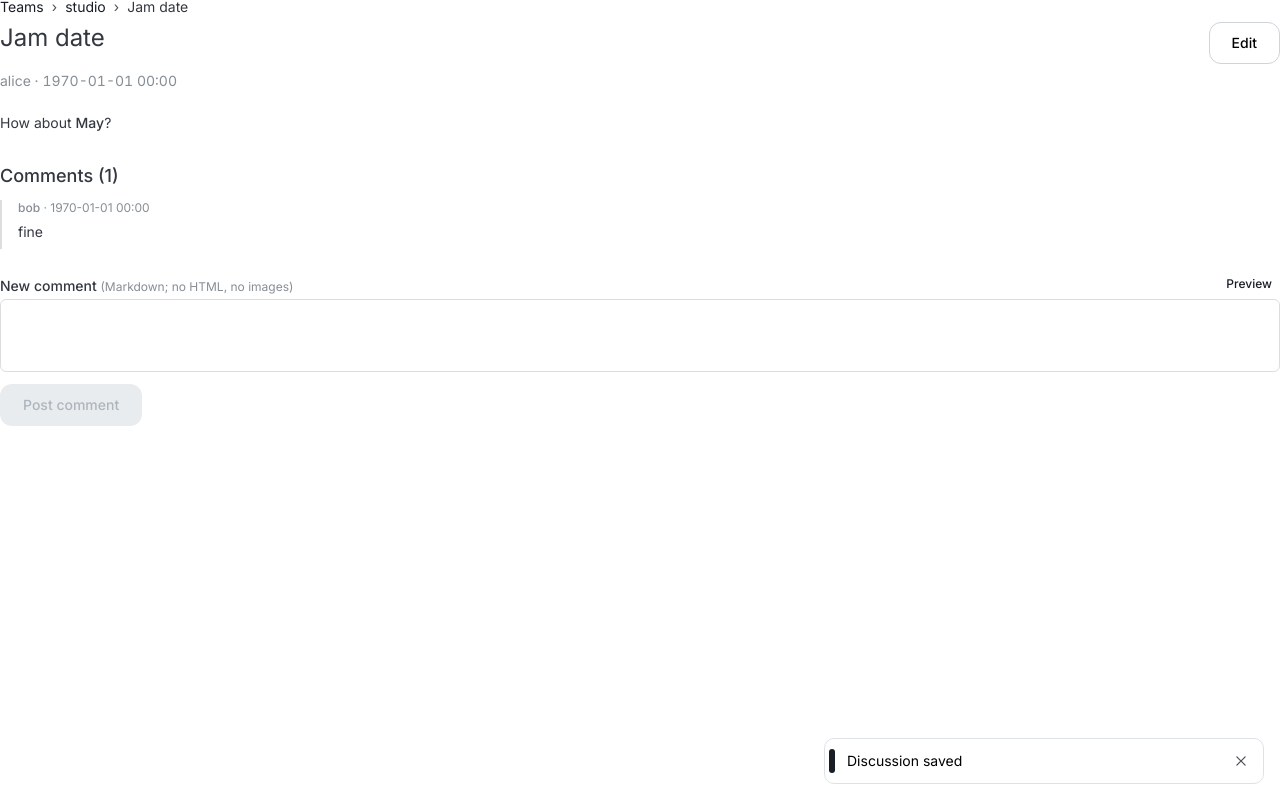
it: DiscussionPage › deletes after confirmation and returns to the team's discussions
Expected: the heading "Jam date" is shown, [0, 22, 105, 54]
Note: The author's delete is the danger zone of the edit drawer.
What coordinates should you click on to do the following:
click the button "Edit"
I would click on:
 (1244, 43)
Its box is [1209, 22, 1279, 64].
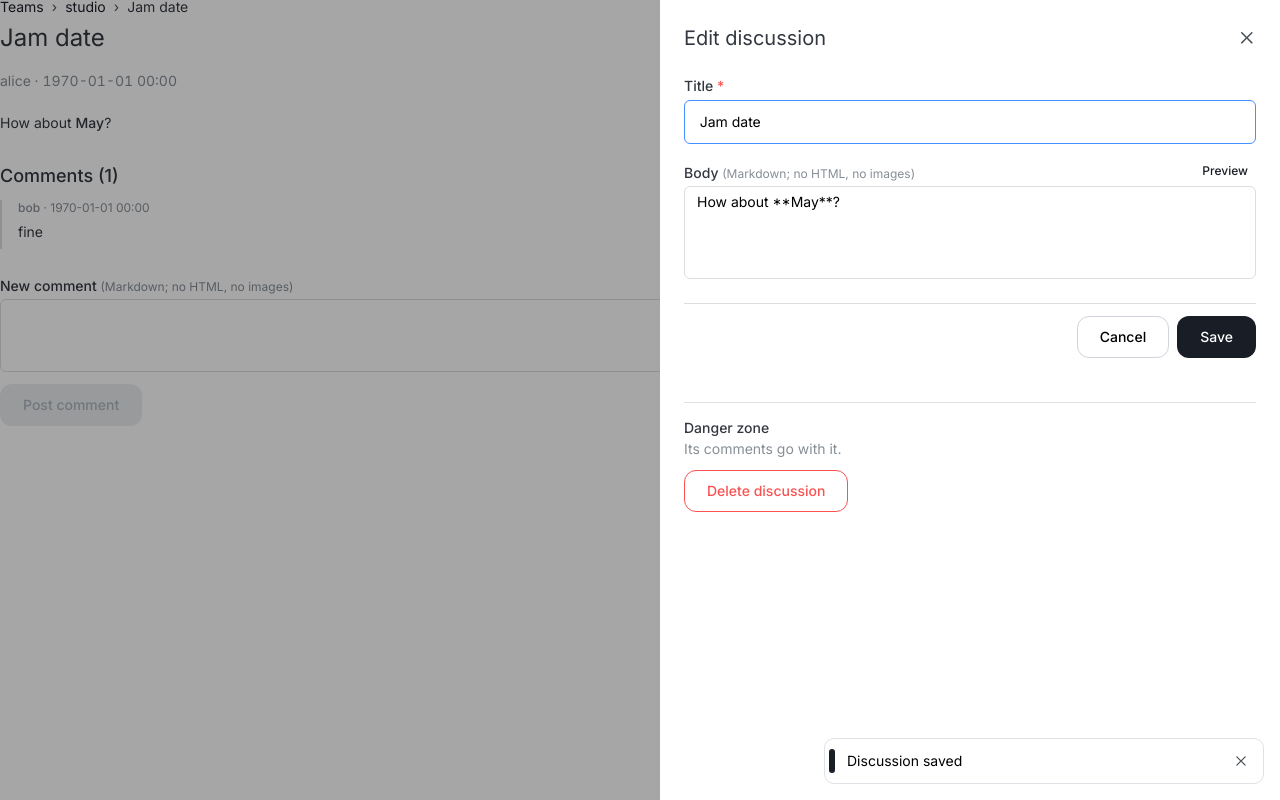
What coordinates should you click on to do the following:
click the button "Delete discussion"
I would click on:
 (766, 491)
Its box is [684, 470, 848, 512].
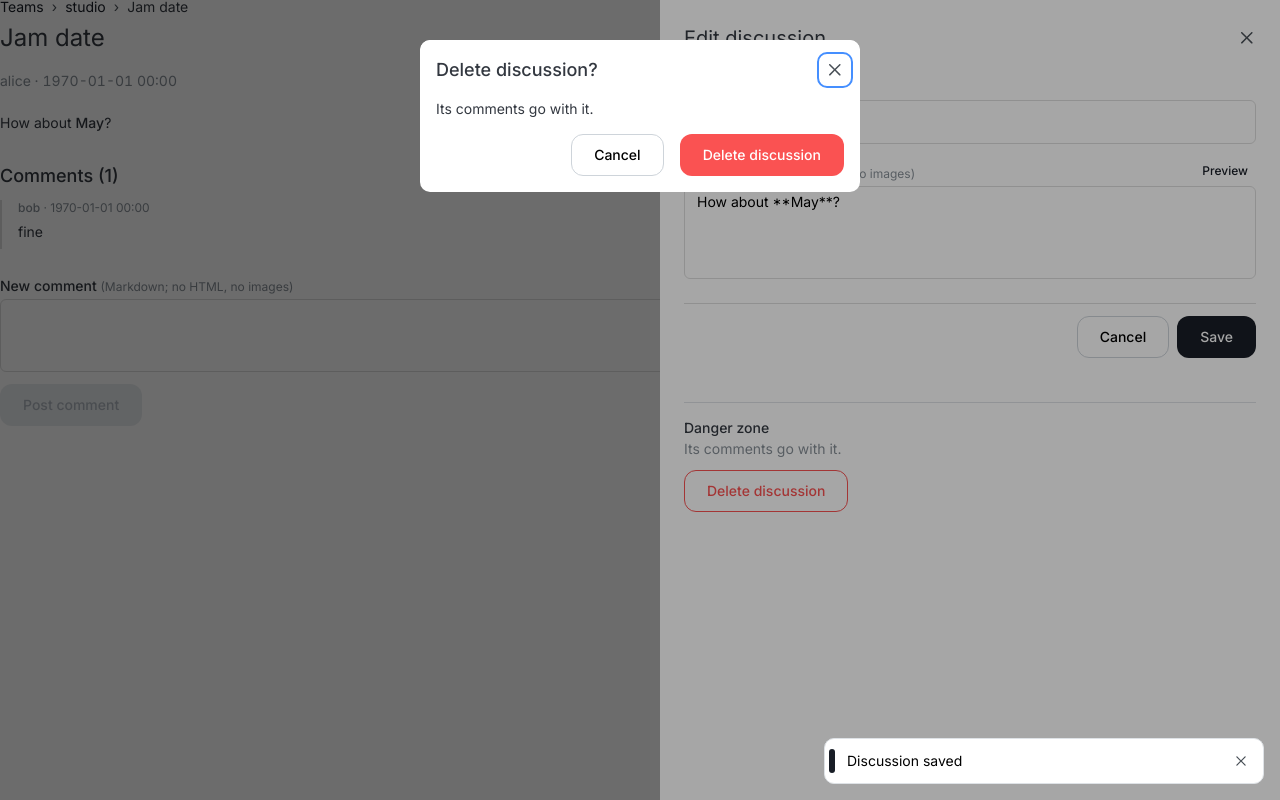
What coordinates should you click on to do the following:
click the button "Delete discussion"
I would click on:
 (762, 154)
Its box is [680, 134, 844, 176].
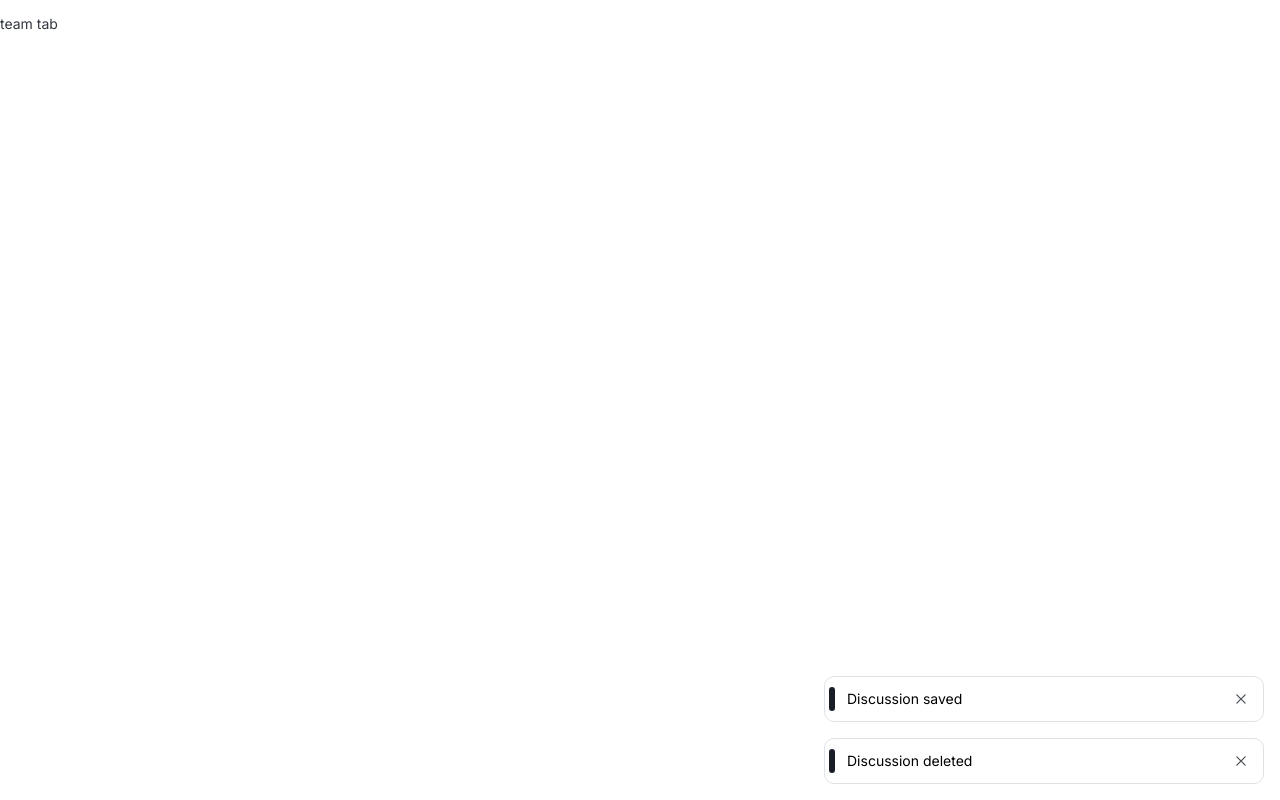
Result: the text "team tab" is shown at [0, 15, 58, 32]
